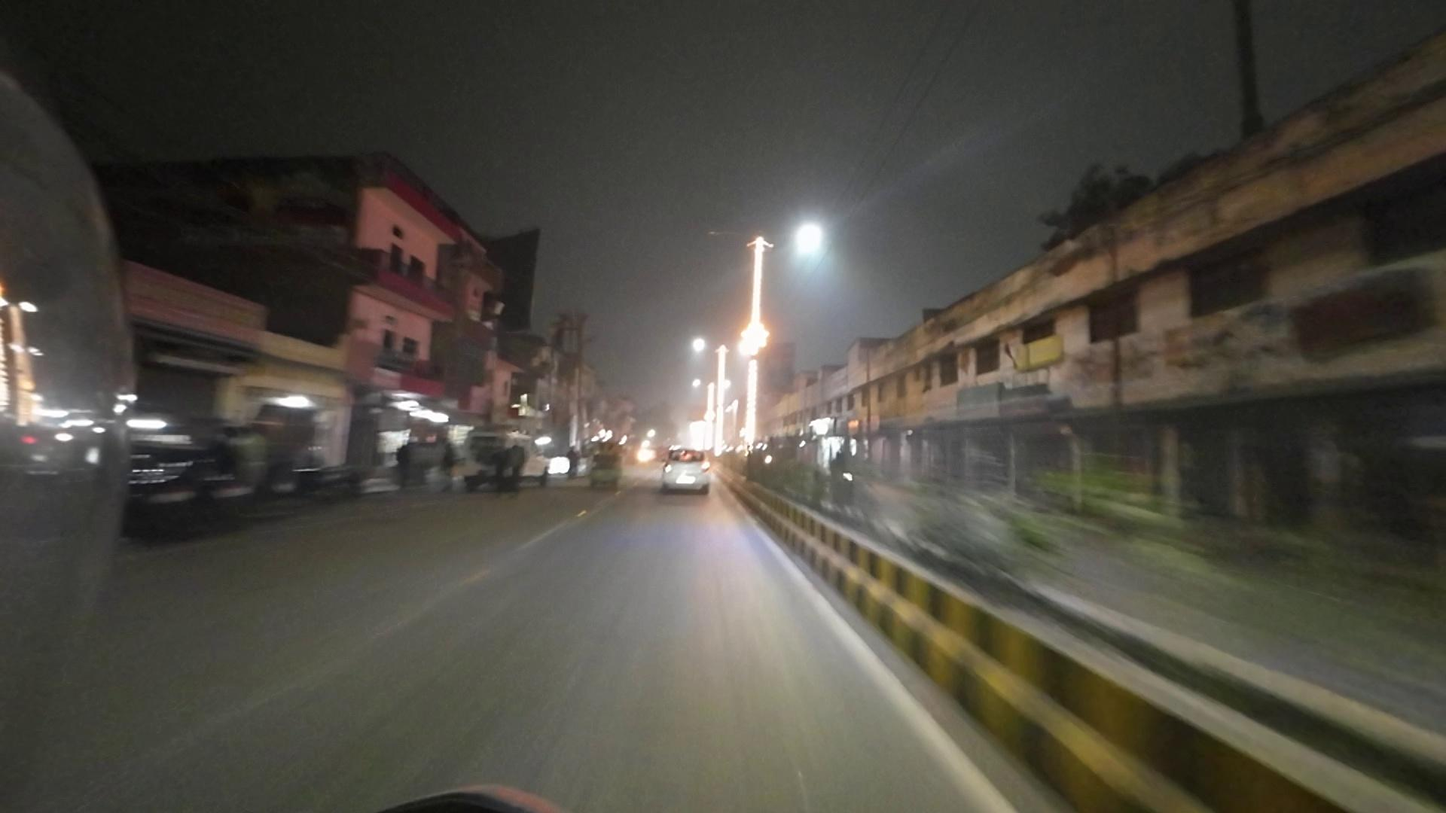streetlight: (707, 225, 745, 242)
